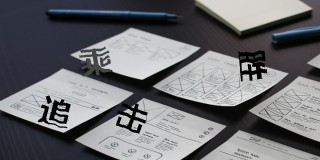乘: (78, 46, 112, 77)
击: (116, 102, 148, 134)
胜: (237, 48, 267, 82)
追: (38, 95, 71, 129)
